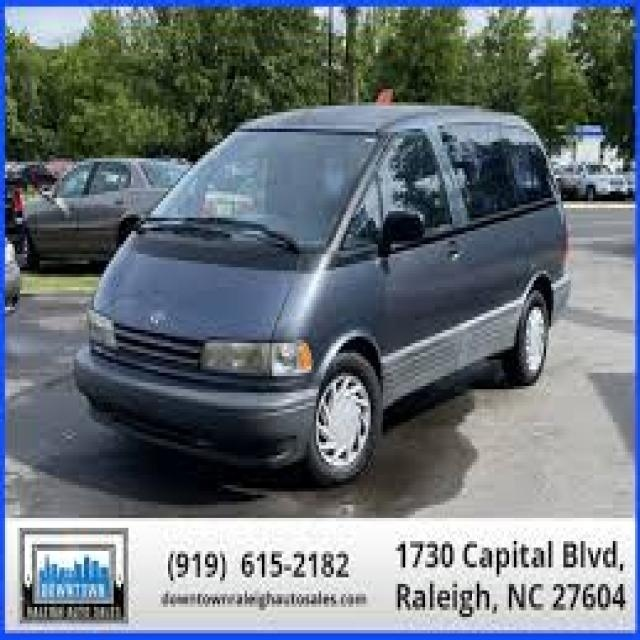Van: (17, 86, 601, 476)
